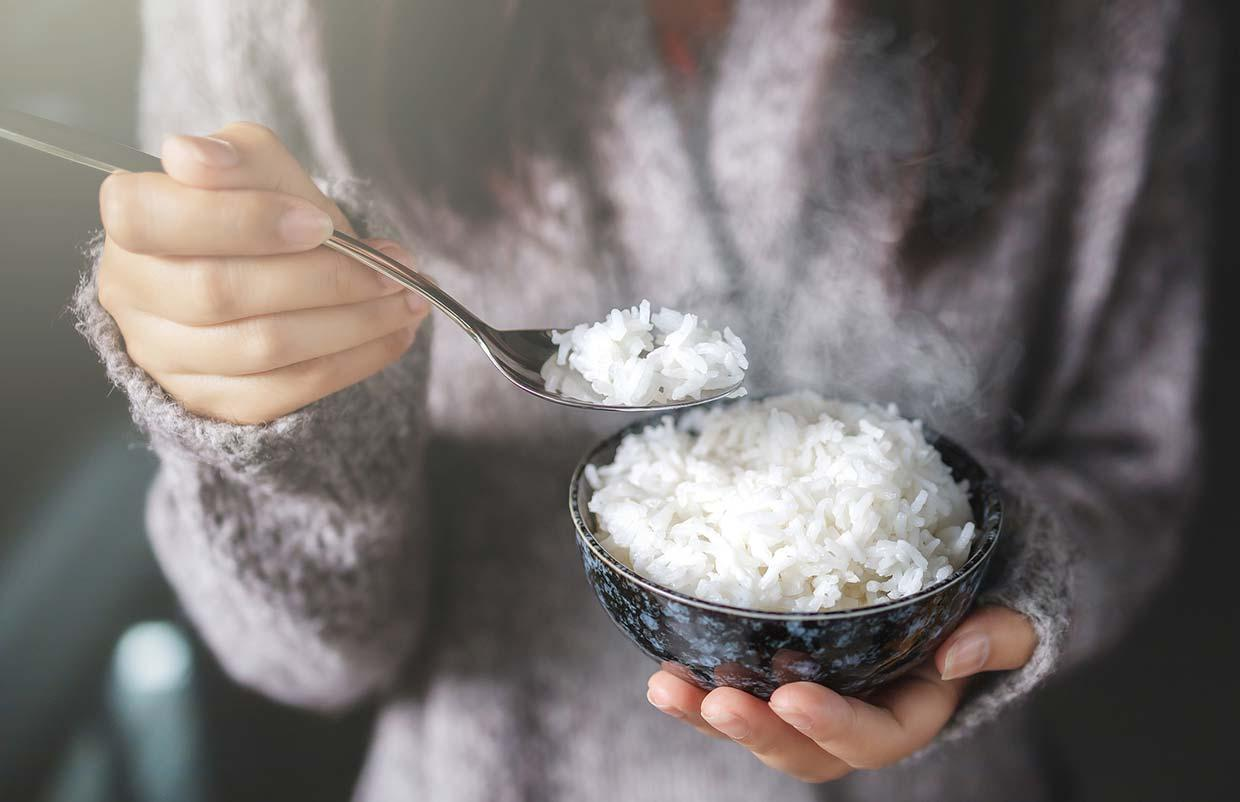rice: (588, 390, 984, 610), (558, 301, 748, 402)
